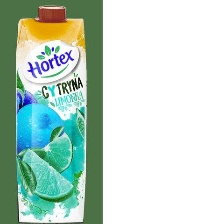carton: (6, 1, 93, 224)
